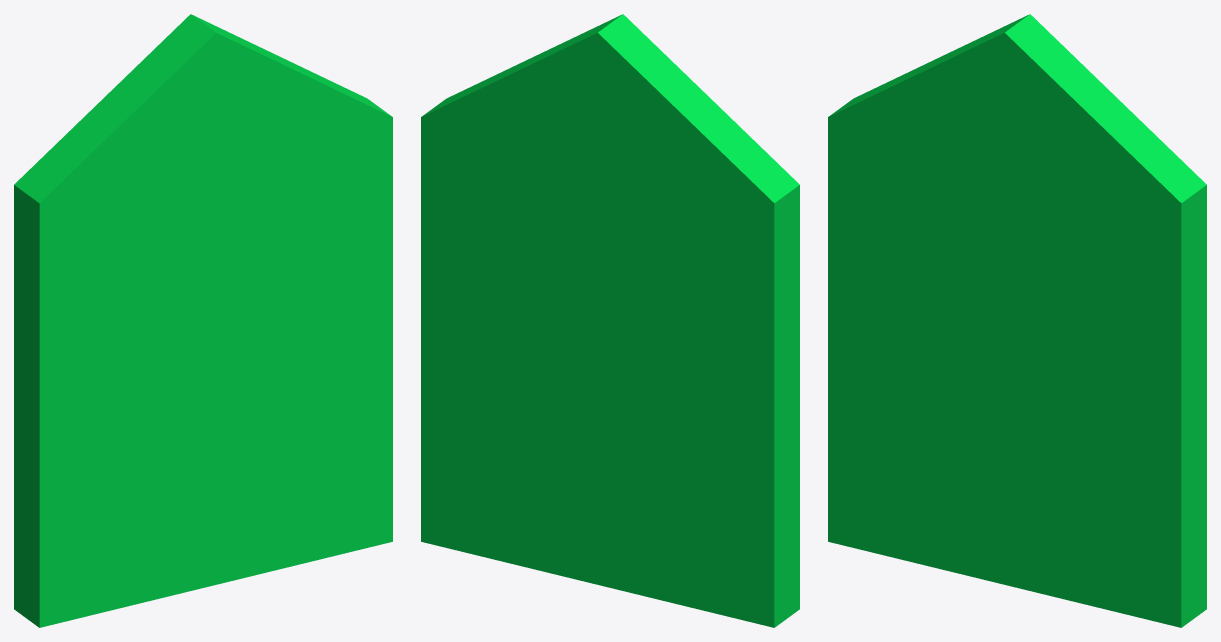
File: arrow_c.fbx
The picture shows the model from 3 angles, left to right: view 1: azimuth 30°, elevation 25°; view 2: azimuth 150°, elevation 25°; view 3: azimuth 330°, elevation 25°; orthographic projection.
Parts seen in each view (by area): view 1: Cube; view 2: Cube; view 3: Cube.
Boxes of the visible parts, <box> form: Cube: <box>14,14,392,627</box>; Cube: <box>421,14,799,627</box>; Cube: <box>828,14,1206,627</box>.
Bounding box in the file's own units: 200 × 299 × 25.
